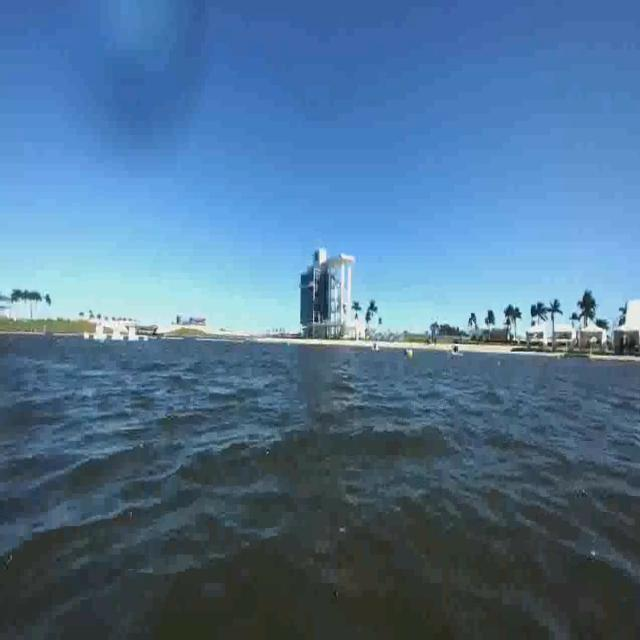yellow-buoy: (408, 349, 415, 360)
